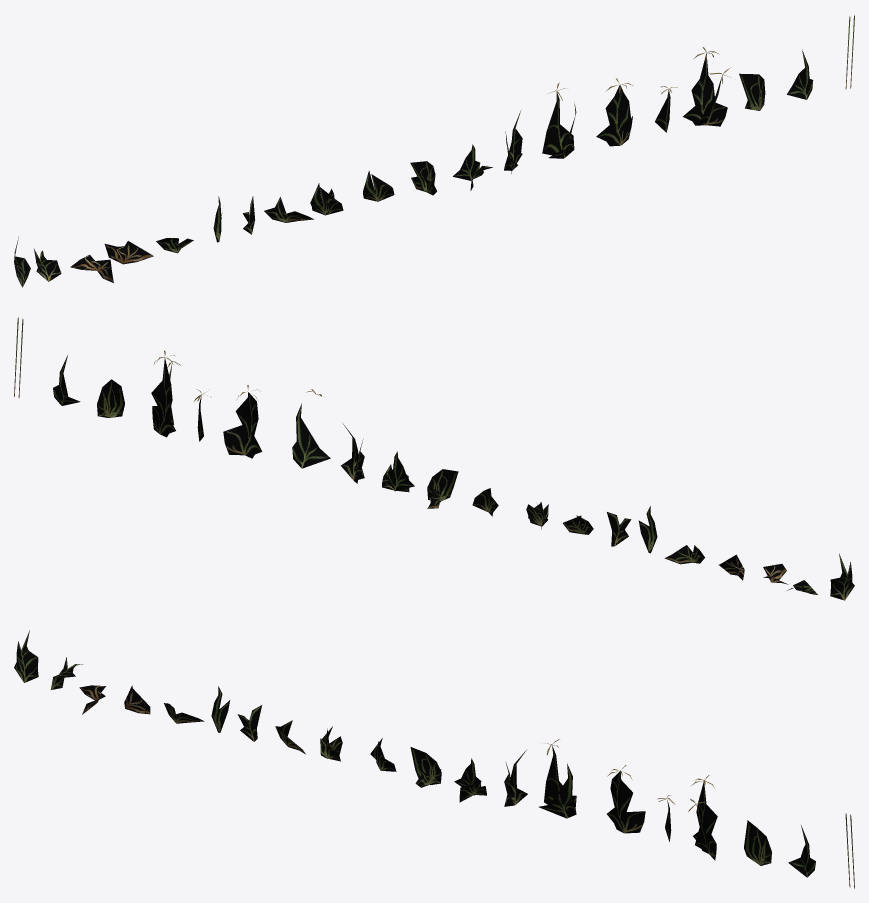
Rendered from grass_bermuda_01.glb.
3 renders of one model, top to bottom at view 1: azimuth 30°, elevation 25°; view 2: azimuth 150°, elevation 25°; view 3: azimuth 330°, elevation 25°, orthographic.
Parts seen in each view (by area): view 1: grass_bermuda_01_seedling_d, grass_bermuda_01_seedling_b, grass_bermuda_01_seedling_a, grass_bermuda_01_medium_b, grass_bermuda_01_dead_b, grass_bermuda_01_medium_c, grass_bermuda_01_small_c, grass_bermuda_01_small_d, grass_bermuda_01_medium_e, grass_bermuda_01_dead_a, grass_bermuda_01_medium_d, grass_bermuda_01_medium_f; view 2: grass_bermuda_01_seedling_b, grass_bermuda_01_seedling_d, grass_bermuda_01_seedling_a, grass_bermuda_01_medium_b, grass_bermuda_01_medium_c, grass_bermuda_01_medium_e, grass_bermuda_01_medium_a, grass_bermuda_01_medium_f; view 3: grass_bermuda_01_seedling_a, grass_bermuda_01_seedling_b, grass_bermuda_01_seedling_d, grass_bermuda_01_medium_b, grass_bermuda_01_medium_c, grass_bermuda_01_medium_a, grass_bermuda_01_medium_e, grass_bermuda_01_medium_f, grass_bermuda_01_medium_d.
Part boxes in pixels (x1,y1,x2,y2): grass_bermuda_01_seedling_d: (683,47,730,126); grass_bermuda_01_seedling_b: (596,78,632,146); grass_bermuda_01_seedling_a: (542,82,576,158); grass_bermuda_01_medium_b: (739,73,765,110); grass_bermuda_01_dead_b: (104,241,153,264); grass_bermuda_01_medium_c: (410,161,436,195); grass_bermuda_01_small_c: (310,183,343,215); grass_bermuda_01_small_d: (363,170,394,201); grass_bermuda_01_medium_e: (453,144,492,190); grass_bermuda_01_dead_a: (70,254,113,282); grass_bermuda_01_medium_d: (787,49,813,99); grass_bermuda_01_medium_f: (504,111,522,173); grass_bermuda_01_seedling_b: (223,385,262,458); grass_bermuda_01_seedling_d: (151,350,180,437); grass_bermuda_01_seedling_a: (292,389,330,468); grass_bermuda_01_medium_b: (97,379,124,417); grass_bermuda_01_medium_c: (427,469,458,508); grass_bermuda_01_medium_e: (382,451,414,492); grass_bermuda_01_medium_a: (830,553,854,600); grass_bermuda_01_medium_f: (341,424,364,483); grass_bermuda_01_seedling_a: (539,739,576,818); grass_bermuda_01_seedling_b: (607,765,645,833); grass_bermuda_01_seedling_d: (688,775,717,860); grass_bermuda_01_medium_b: (744,820,771,865); grass_bermuda_01_medium_c: (410,747,441,787); grass_bermuda_01_medium_a: (14,630,38,682); grass_bermuda_01_medium_e: (454,758,486,802); grass_bermuda_01_medium_f: (504,750,527,806); grass_bermuda_01_medium_d: (788,825,815,877).
Size of the model in its own units: 1.69 by 0.1583 by 0.1422.
1 material, 1 textured.
